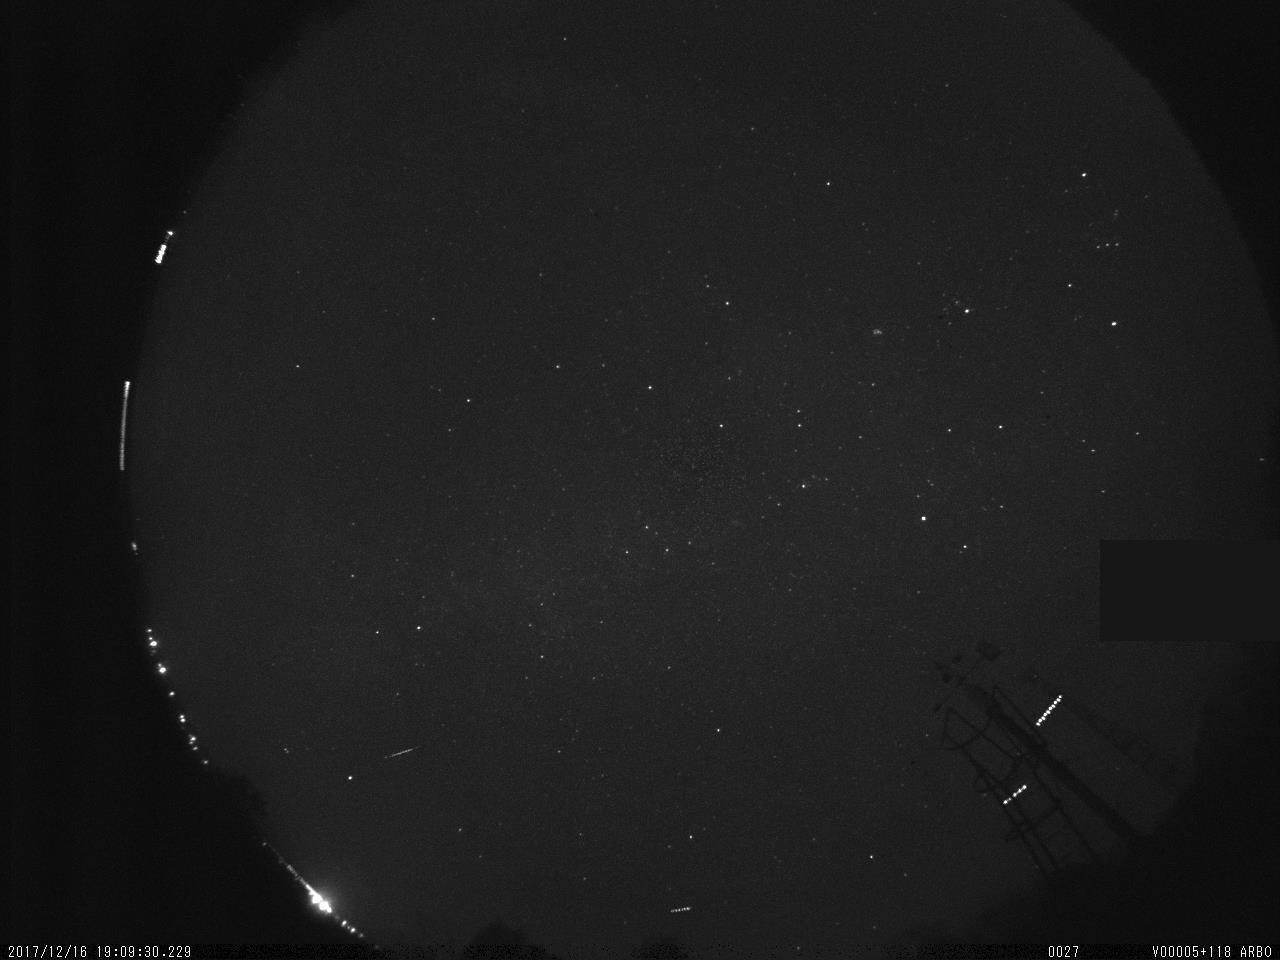meteor: (380, 740, 431, 766)
satelite: (1030, 687, 1072, 733), (998, 774, 1032, 813), (664, 899, 698, 919)
